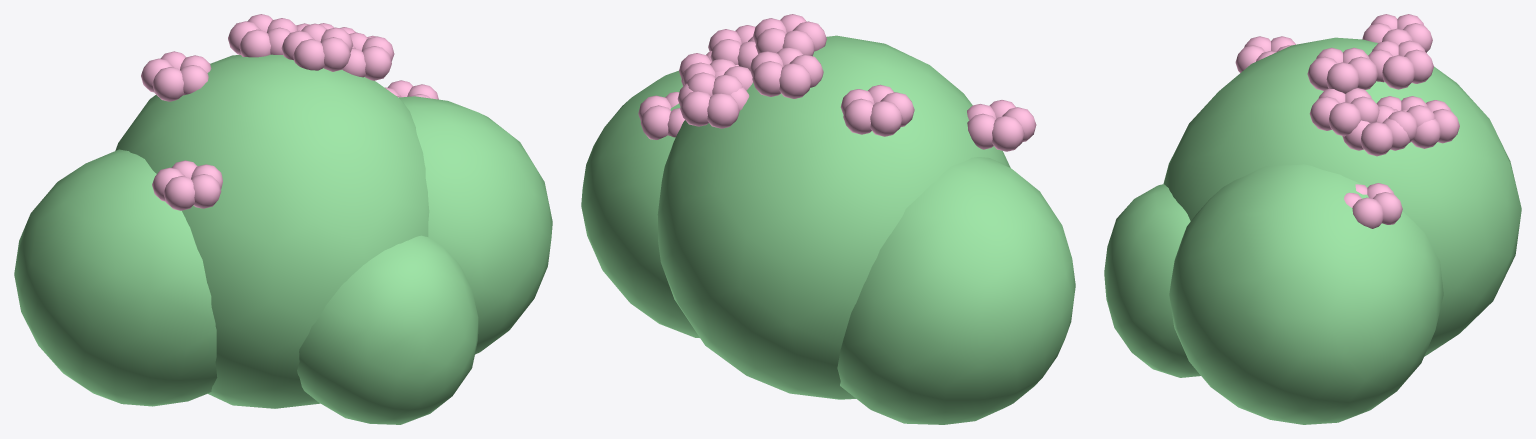
Rendered from Bush.glb.
The picture shows the model from 3 angles, left to right: view 1: azimuth 30°, elevation 25°; view 2: azimuth 150°, elevation 25°; view 3: azimuth 270°, elevation 25°; orthographic projection. The views are drawn at different scales.
Parts seen in each view (by area): view 1: Leaves, Flowers; view 2: Leaves, Flowers; view 3: Leaves, Flowers.
Boxes of the visible parts, <box> form: Leaves: <box>14,54,552,424</box>; Flowers: <box>141,14,438,210</box>; Leaves: <box>581,35,1075,424</box>; Flowers: <box>638,14,1036,151</box>; Leaves: <box>1104,37,1521,424</box>; Flowers: <box>1235,14,1459,228</box>.
Size of the model in its own units: 6.79 by 4.65 by 5.27.
